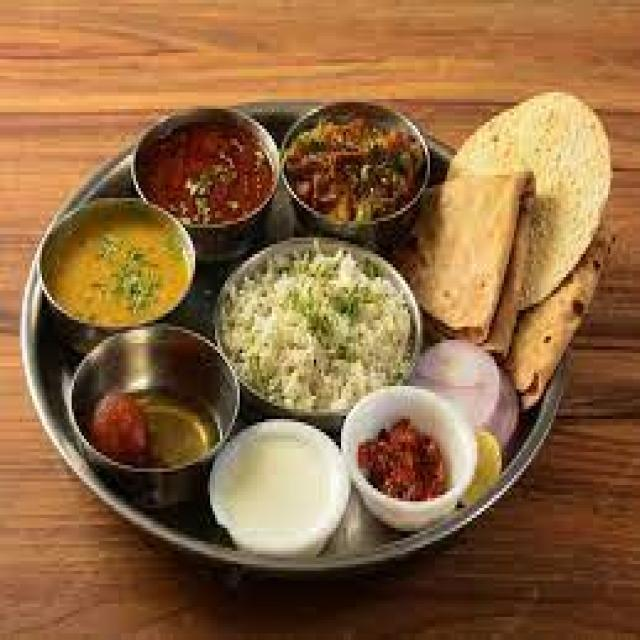dal: (226, 236, 392, 413), (32, 201, 193, 341)
rice: (226, 224, 403, 419)
roti: (464, 100, 616, 354)
sambar-rasam: (131, 113, 272, 236)
sweet: (57, 341, 230, 495), (348, 391, 471, 502)
veg-fry: (134, 119, 280, 242)
